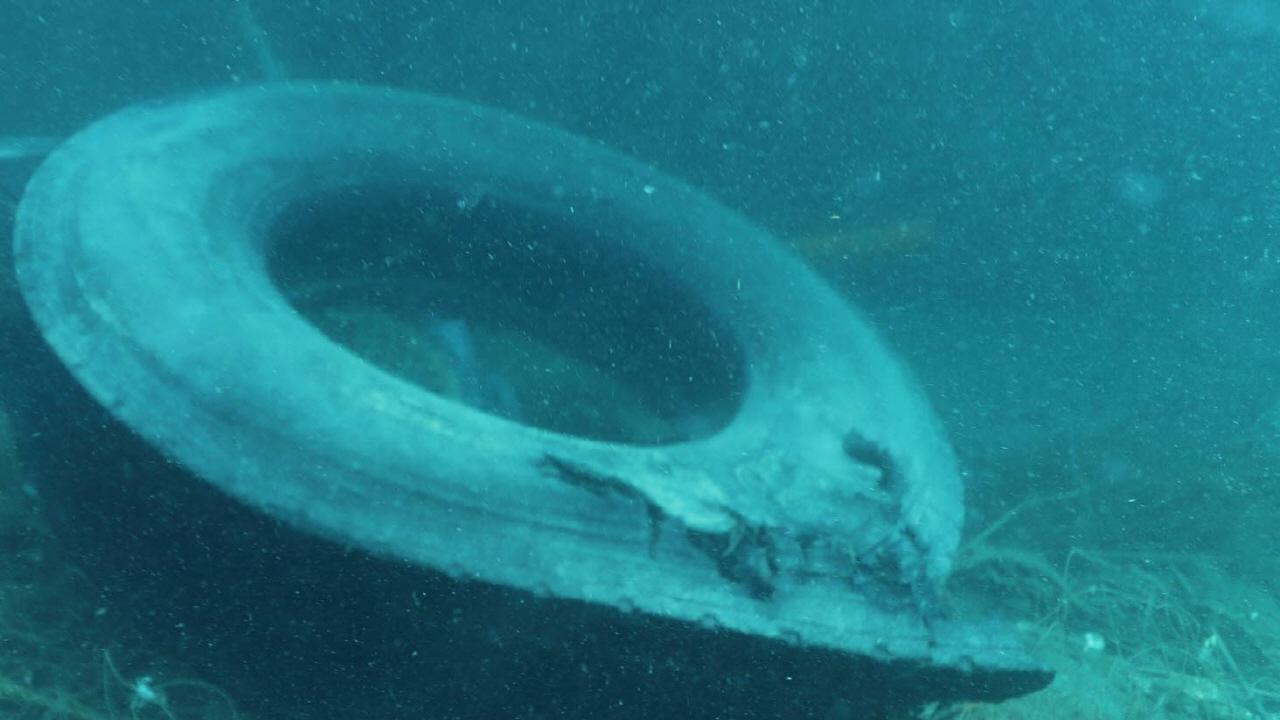tire: (0, 79, 1057, 720)
